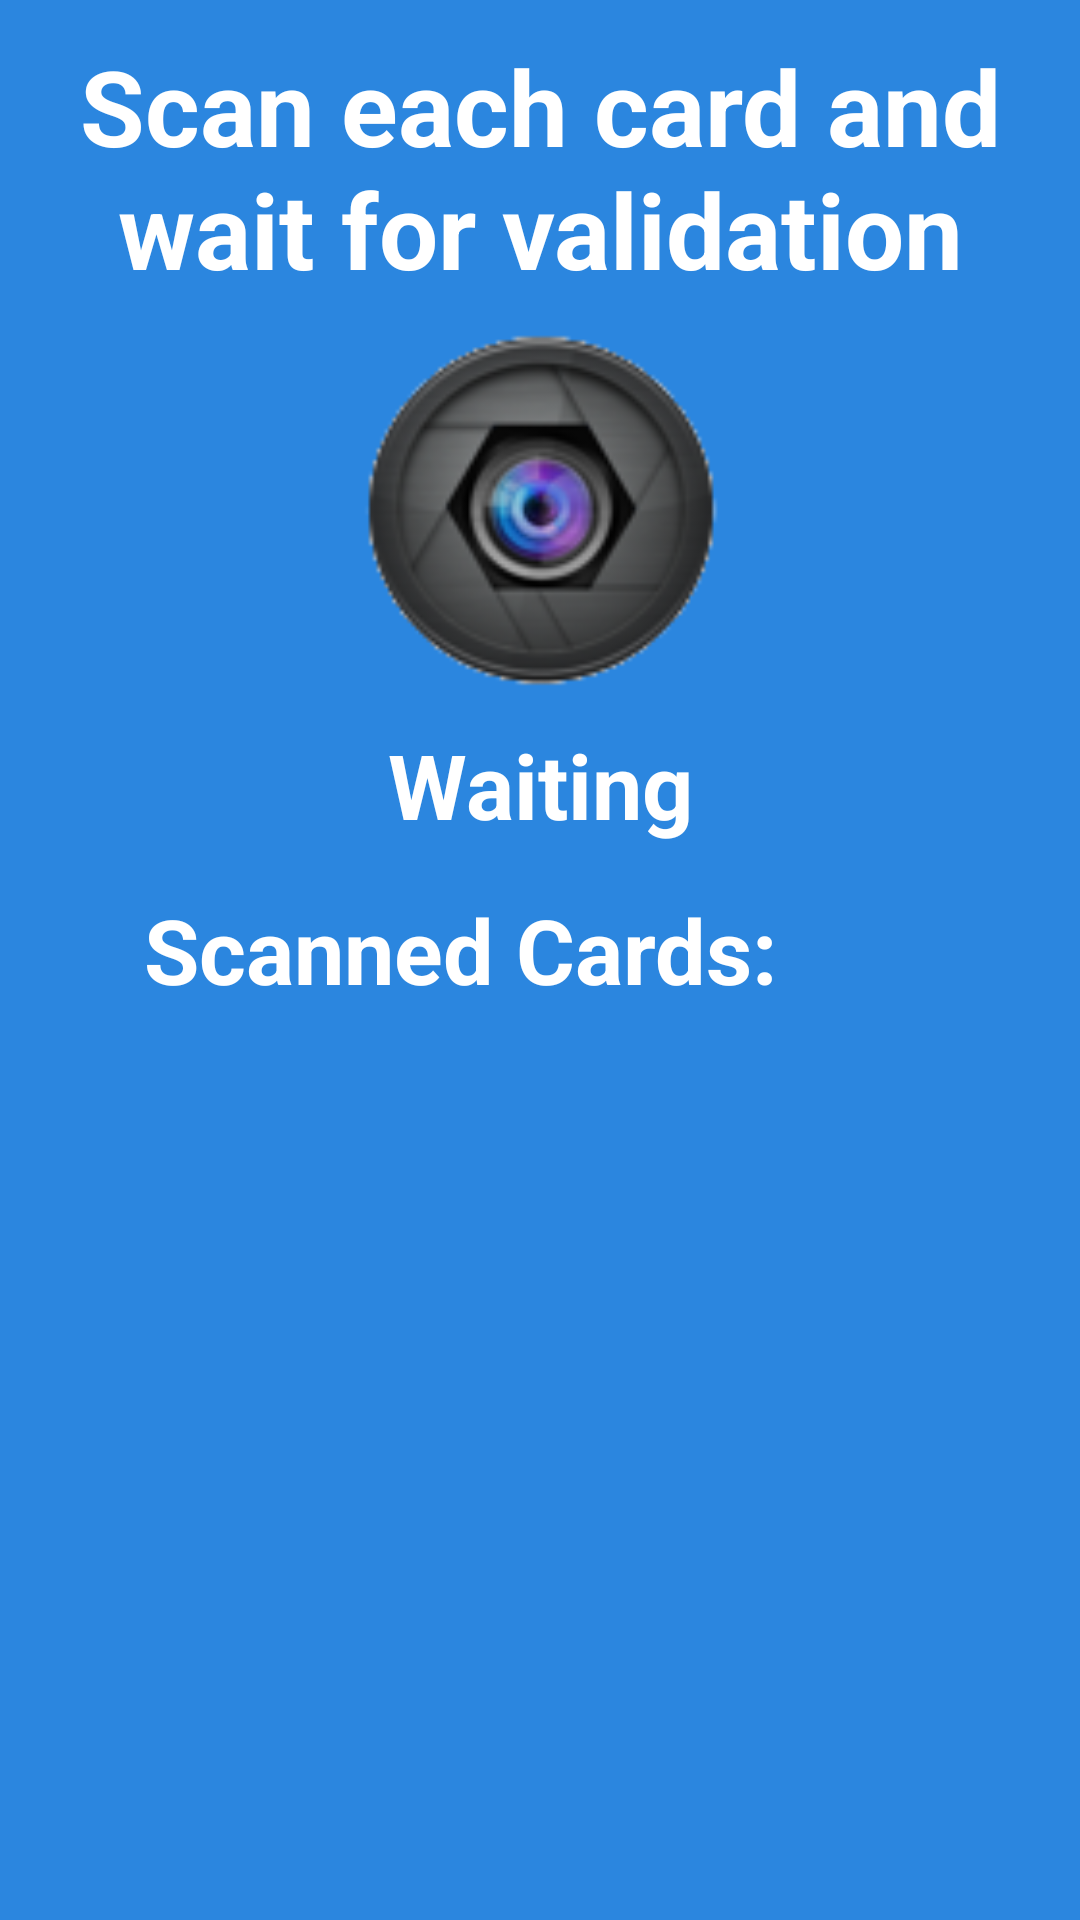

Icons on this 1080w x 1920h Android screen, each with the point to tap as [x,y]:
camera: [542,510]
